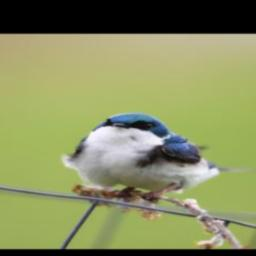Swallow: (59, 112, 256, 204)
